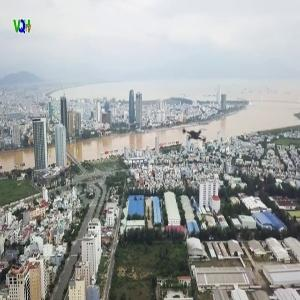drone: (170, 113, 221, 164)
